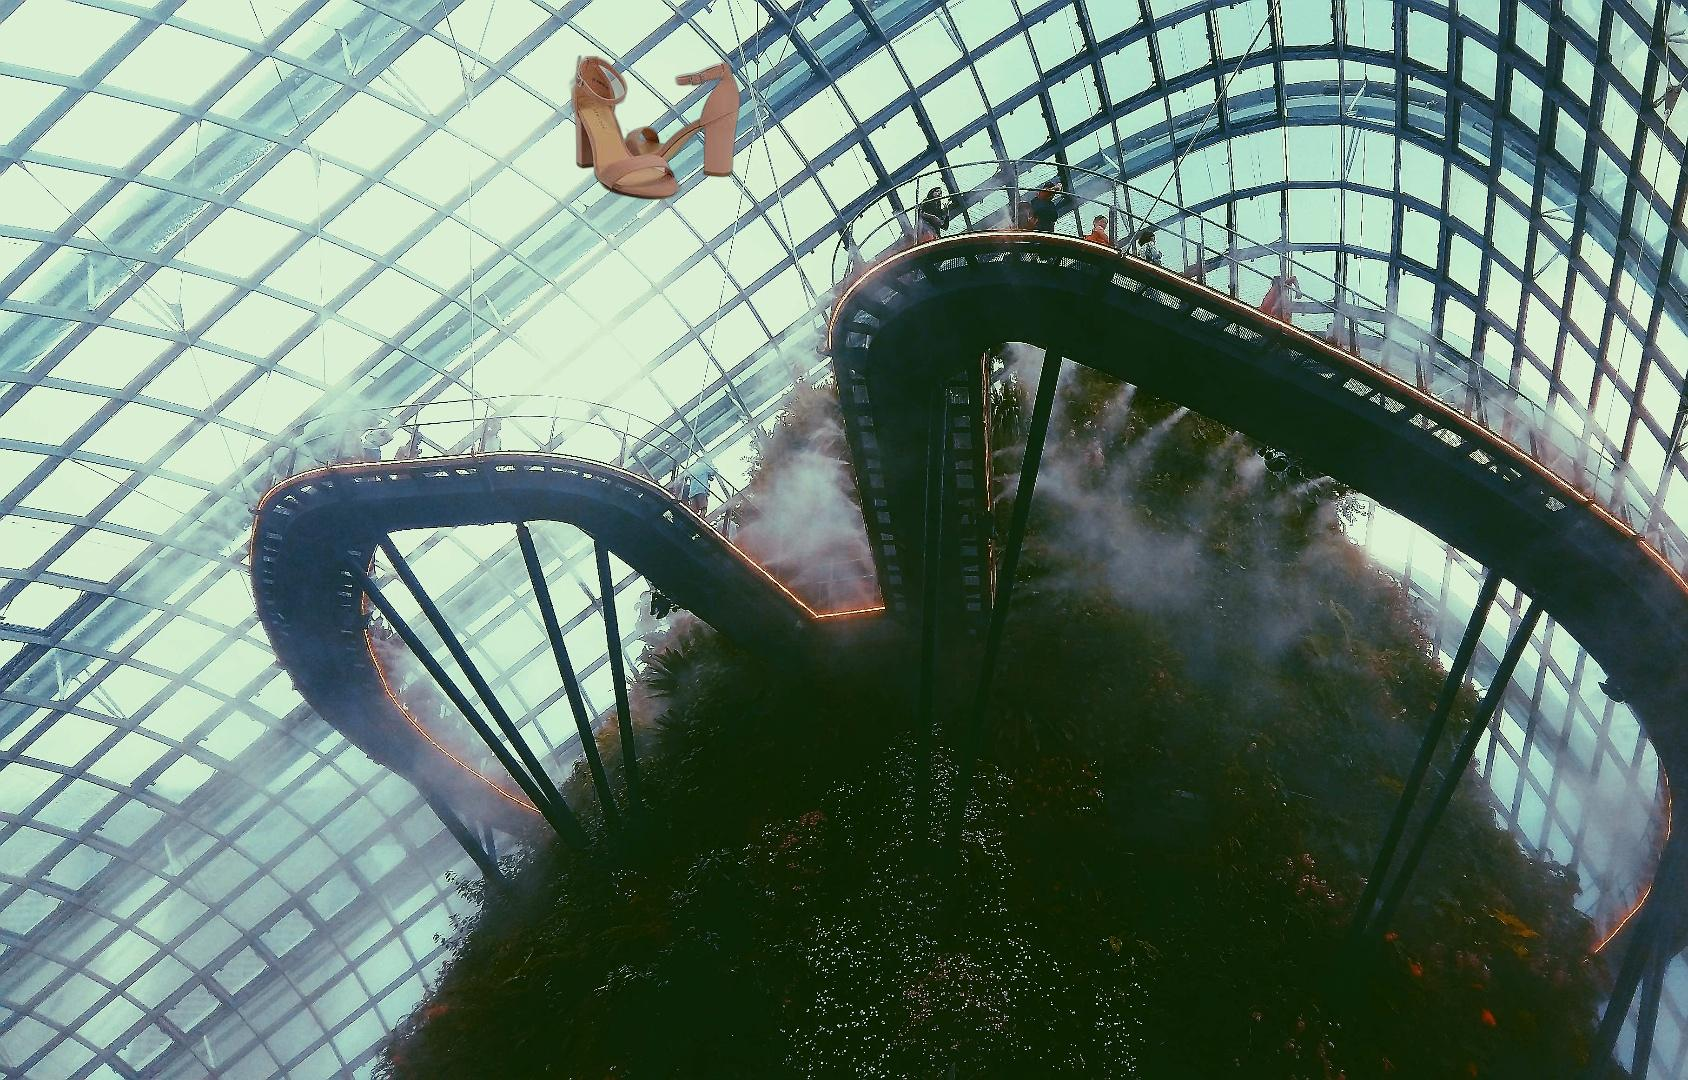shoes: (566, 53, 743, 202)
